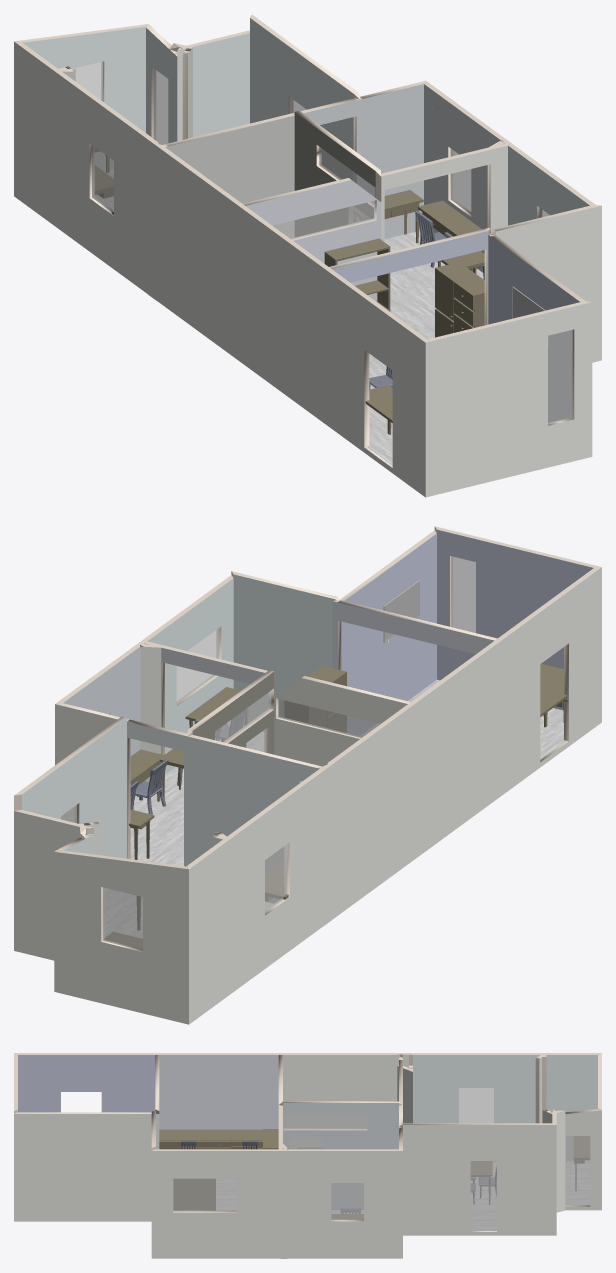
Rendered from shin_thatedat_office.obj.
3 views of the same model, one above another, from view 1: azimuth 30°, elevation 25°; view 2: azimuth 150°, elevation 25°; view 3: azimuth 270°, elevation 25° (orthographic). The views are drawn at different scales.
Parts seen in each view (by area): view 1: wall_6, wall_23, wall_32, wall_19, wall_26, wall_87, wall_49, wall_13, wall_33, wall_99, wall_53, wall_113 (+43 smaller); view 2: wall_4, wall_23, wall_32, wall_19, wall_26, wall_57, wall_113, wall_71, wall_21, wall_49, wall_33, wall_39 (+42 smaller); view 3: wall_2, wall_34, wall_37, wall_43, wall_91, wall_109, wall_83, wall_97, wall_47, wall_111, floor_Dining_Room_1, window_4 (+29 smaller).
Part boxes in pixels (box(x1,y1,x2,y2)): wall_6: box(425, 302, 592, 497); wall_23: box(239, 206, 325, 423); wall_32: box(54, 71, 147, 293); wall_19: box(325, 269, 425, 497); wall_26: box(156, 146, 238, 360); wall_87: box(165, 115, 294, 238); wall_49: box(250, 18, 354, 180); wall_13: box(495, 205, 601, 362); wall_33: box(14, 42, 54, 225); wall_99: box(360, 84, 423, 238); wall_53: box(23, 27, 145, 171); wall_113: box(489, 235, 579, 422); wall_4: box(54, 852, 188, 1024); wall_23: box(414, 641, 501, 858); wall_32: box(229, 771, 323, 994); wall_19: box(501, 567, 601, 795); wall_26: box(332, 704, 414, 919); wall_57: box(437, 529, 593, 710); wall_113: box(341, 533, 436, 735); wall_71: box(233, 574, 334, 731); wall_21: box(187, 736, 316, 903); wall_49: box(22, 718, 126, 858); wall_33: box(189, 840, 229, 1024); wall_39: box(14, 811, 77, 960); wall_2: box(403, 1125, 556, 1235); wall_34: box(14, 1114, 151, 1221); wall_37: box(151, 1151, 280, 1258); wall_43: box(287, 1151, 402, 1258); wall_91: box(159, 1055, 278, 1129); wall_109: box(413, 1055, 539, 1161); wall_83: box(18, 1055, 155, 1112); wall_97: box(283, 1055, 397, 1148); wall_47: box(283, 1103, 398, 1209); wall_111: box(546, 1055, 597, 1161); floor_Dining_Room_1: box(471, 1162, 589, 1230); window_4: box(173, 1179, 236, 1211).
Bounding box in the file's own units: 5.42 × 2.95 × 14.17.
123 materials, 5 textured.
